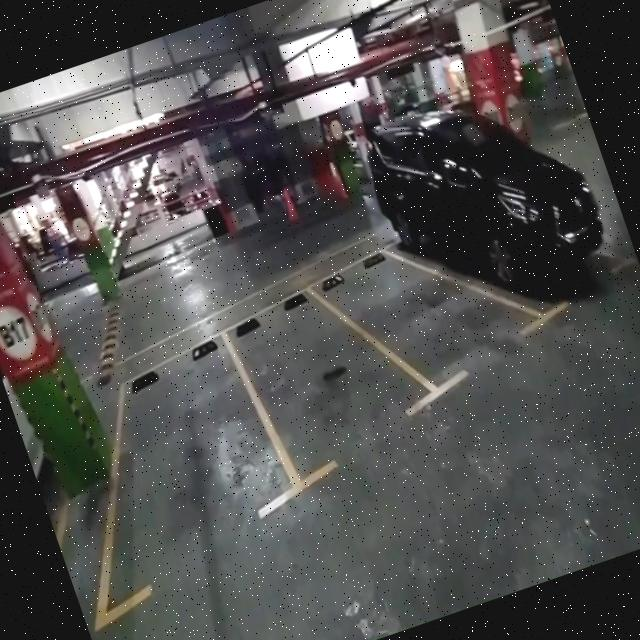empty: (78, 334, 294, 572), (220, 276, 402, 494), (332, 226, 499, 420)
occupied: (361, 69, 630, 344)
